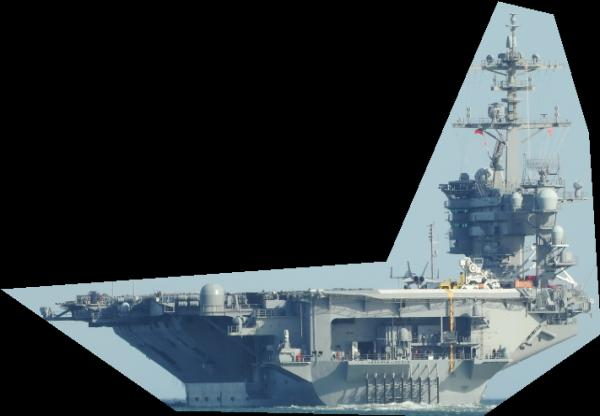Aircraft Carrier: (1, 1, 600, 416)
